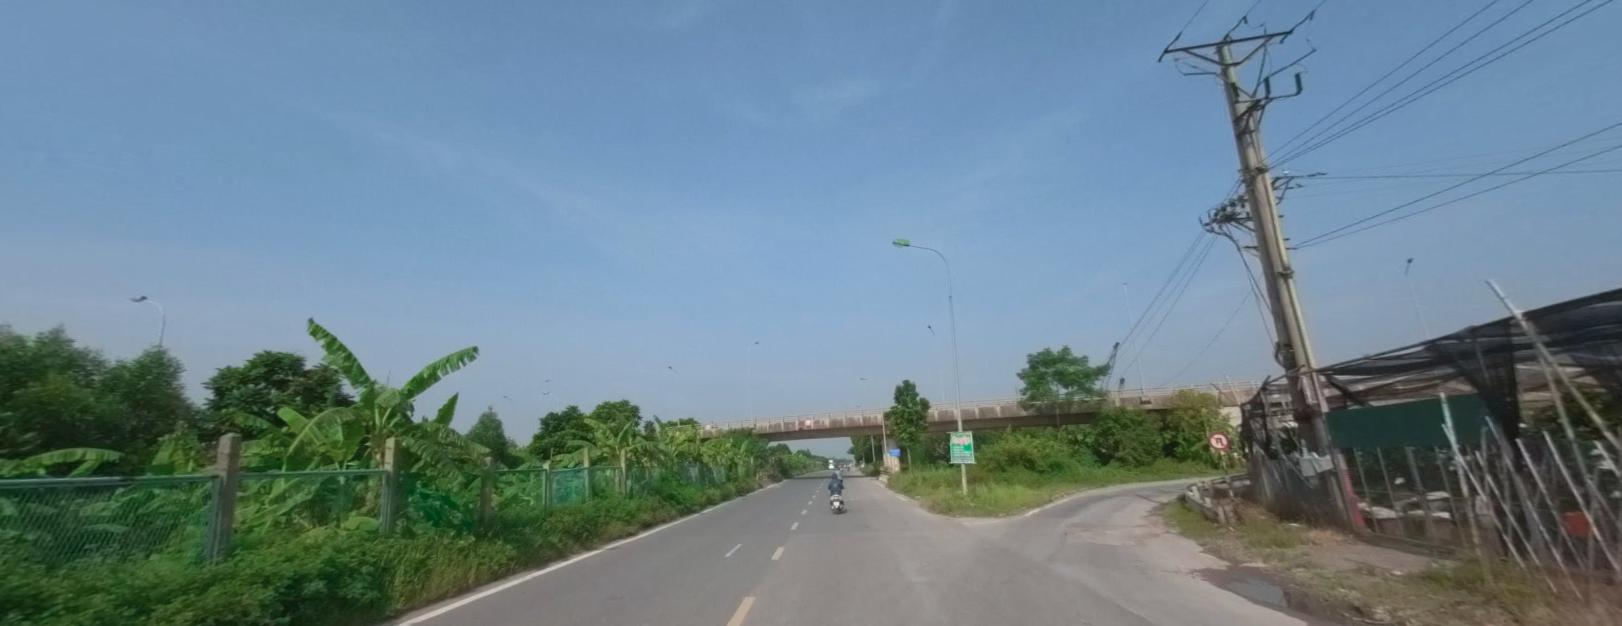Cam re: (1208, 431, 1228, 448)
